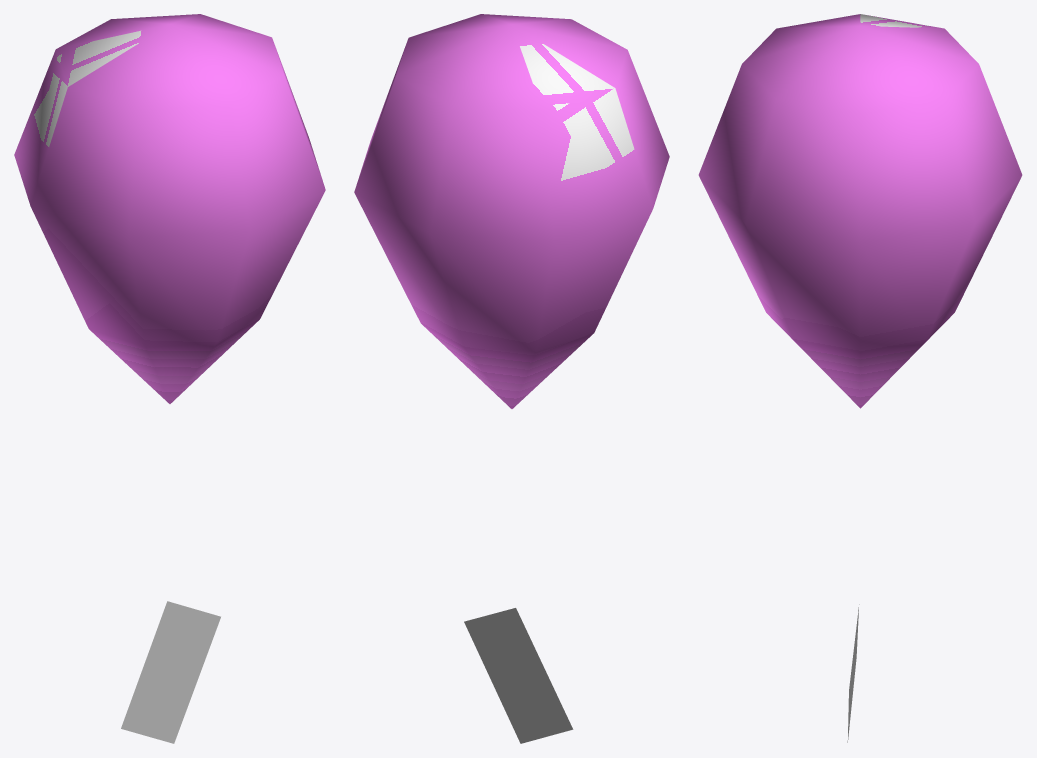
File: SUB_CLOUDPLATFORM.obj
The picture shows the model from 3 angles, left to right: view 1: azimuth 30°, elevation 25°; view 2: azimuth 150°, elevation 25°; view 3: azimuth 270°, elevation 25°; orthographic projection.
Parts seen in each view (by area): view 1: SUB_CLOUDPLATFORM; view 2: SUB_CLOUDPLATFORM; view 3: SUB_CLOUDPLATFORM.
Part boxes in pixels (x1,y1,x2,y2): SUB_CLOUDPLATFORM: (14,14,325,743); SUB_CLOUDPLATFORM: (354,14,669,743); SUB_CLOUDPLATFORM: (698,14,1022,742).
Size of the model in its own units: 15.88 by 38.88 by 15.88.
